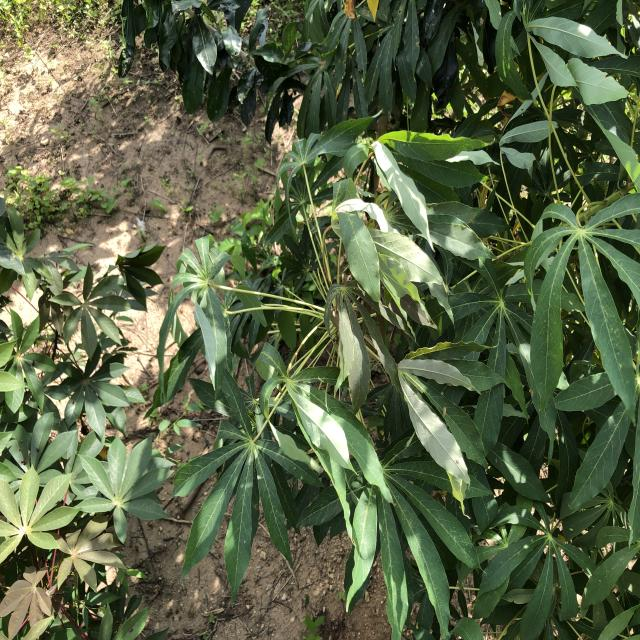Mosca: (17, 436, 29, 470), (520, 536, 534, 553), (254, 470, 265, 484), (31, 445, 42, 454)
